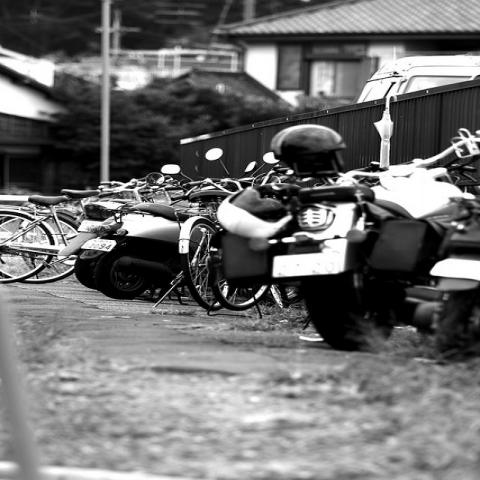motorcycle: (271, 130, 479, 354), (402, 189, 479, 363), (96, 204, 193, 301), (52, 201, 127, 292)
truck: (353, 51, 479, 104)
